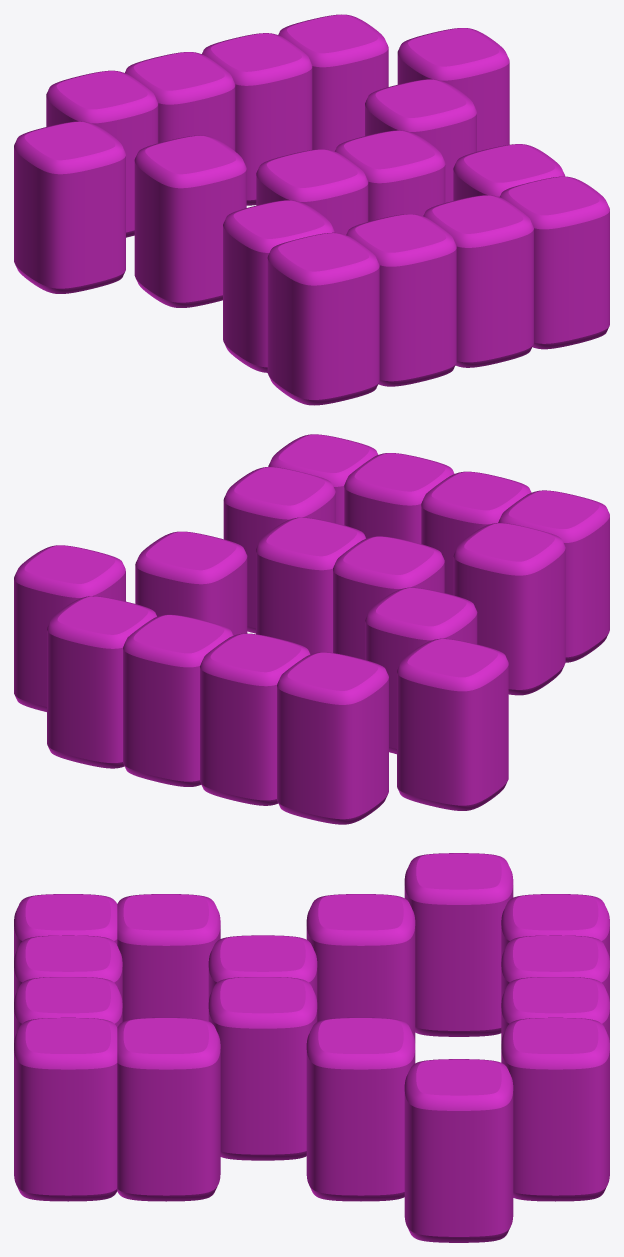
Rendered from Number_8.fbx.
3 renders of one model, top to bottom at view 1: azimuth 30°, elevation 25°; view 2: azimuth 150°, elevation 25°; view 3: azimuth 270°, elevation 25°, orthographic. The views are drawn at different scales.
Visible parts, largest first — view 1: Number_8; view 2: Number_8; view 3: Number_8.
Boxes of the visible parts, <box> form: Number_8: <box>14,14,609,405</box>; Number_8: <box>14,434,609,824</box>; Number_8: <box>14,853,609,1242</box>.
Bounding box in the file's own units: 0.5146 × 0.14 × 0.5146.
